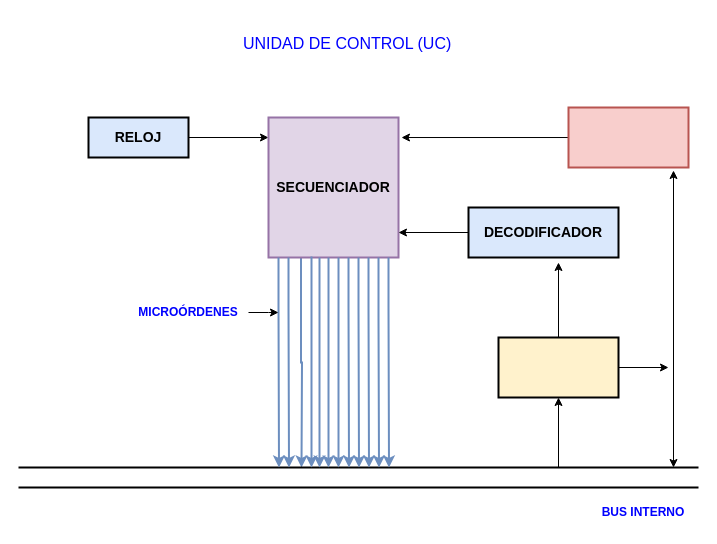
Some shapes in this 717 by 544 pixel diagram are drawn without their labels. The shapes that lost their labels are listed below. From the top down, each one's centre as x and y in pixels, then its label:
At (628,137): "CONTADOR DE PROGRAMA".
At (558,367): "REGISTRO DE INSTRUCCIONES".
